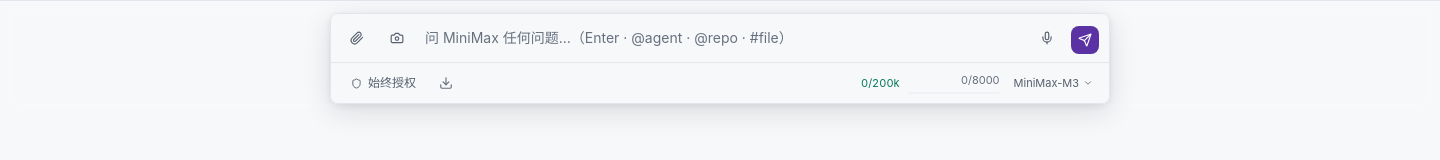
it: MessageInput — bottom composer › renders the always-allow inline toggle bound to the store
The width and height of the screenshot is (1440, 160).
Click the switch with test id "chat-input-always-allow" at (384, 83), box [341, 69, 426, 97]
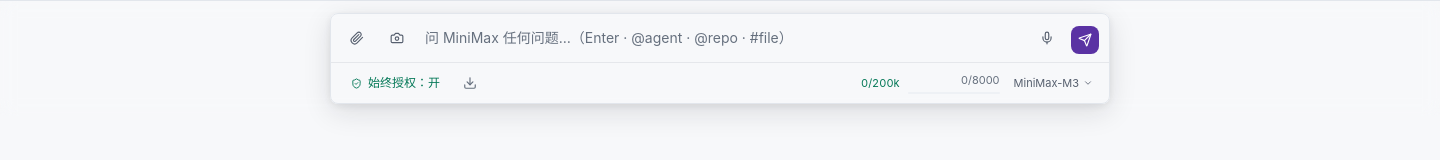
Check: the switch with test id "chat-input-always-allow" reads "始终授权：开"
Click the switch with test id "chat-input-always-allow" at (396, 83), box [341, 69, 450, 97]
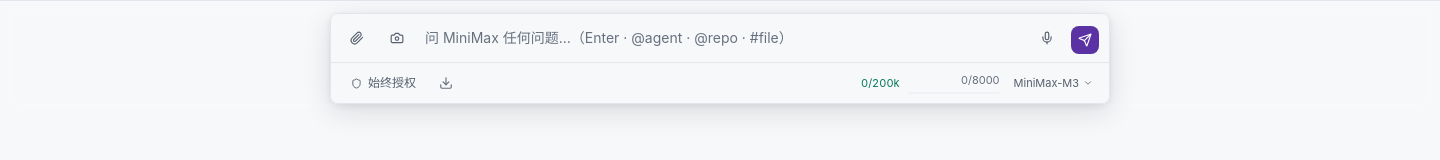
Check: the switch with test id "chat-input-always-allow" reads "始终授权", box [341, 69, 426, 97]
